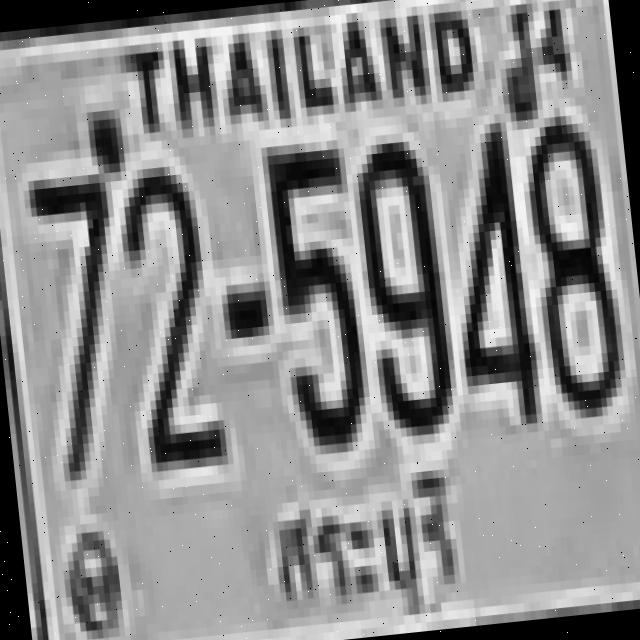2: (114, 160, 222, 468)
4: (434, 117, 536, 426)
5: (260, 140, 368, 448)
7: (24, 165, 132, 473), (24, 164, 122, 384)
8: (516, 112, 624, 412)
9: (348, 130, 455, 430)
SaraBuri: (263, 462, 473, 629)
